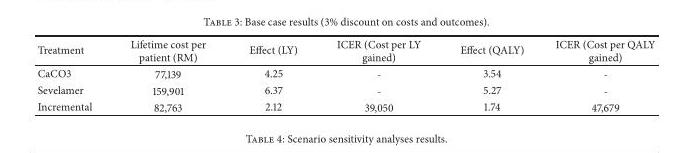table: (36, 36, 654, 114)
table column: (316, 36, 439, 114), (110, 36, 226, 114), (539, 36, 654, 114), (439, 36, 539, 114), (226, 36, 316, 114), (36, 36, 110, 114)
table column header: (36, 36, 654, 64)
table row: (36, 36, 654, 64), (36, 64, 654, 81), (36, 81, 654, 98), (36, 98, 654, 114)
